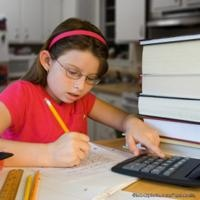person without safety: (12, 14, 111, 143)
